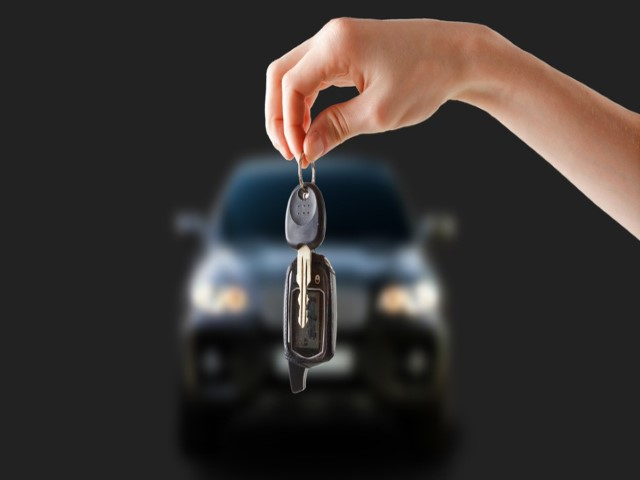key: (284, 173, 328, 328)
